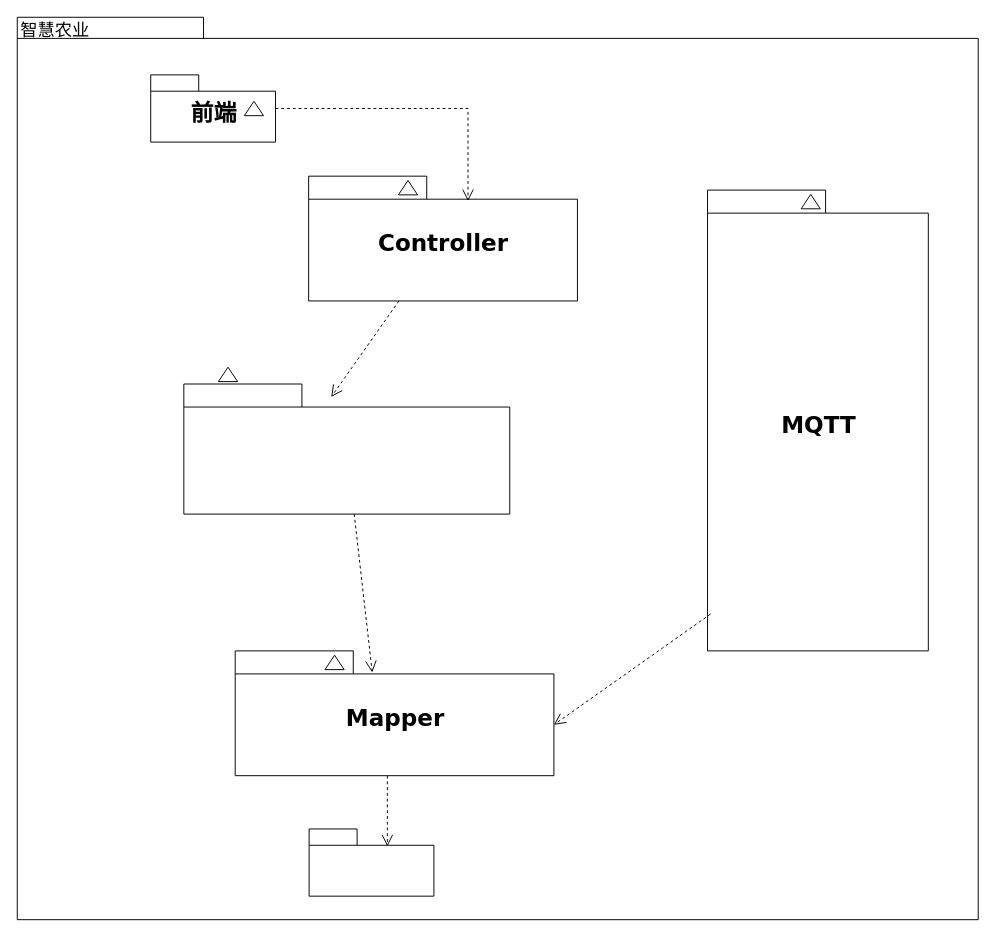
Image size: 995x936. Some labels were removed from this diagram. The shapes that lost their labels are listed below. From the top down, each one's centre as x and y in pixels, then its label:
the point at 346,448: service
the point at 371,862: MySQL
